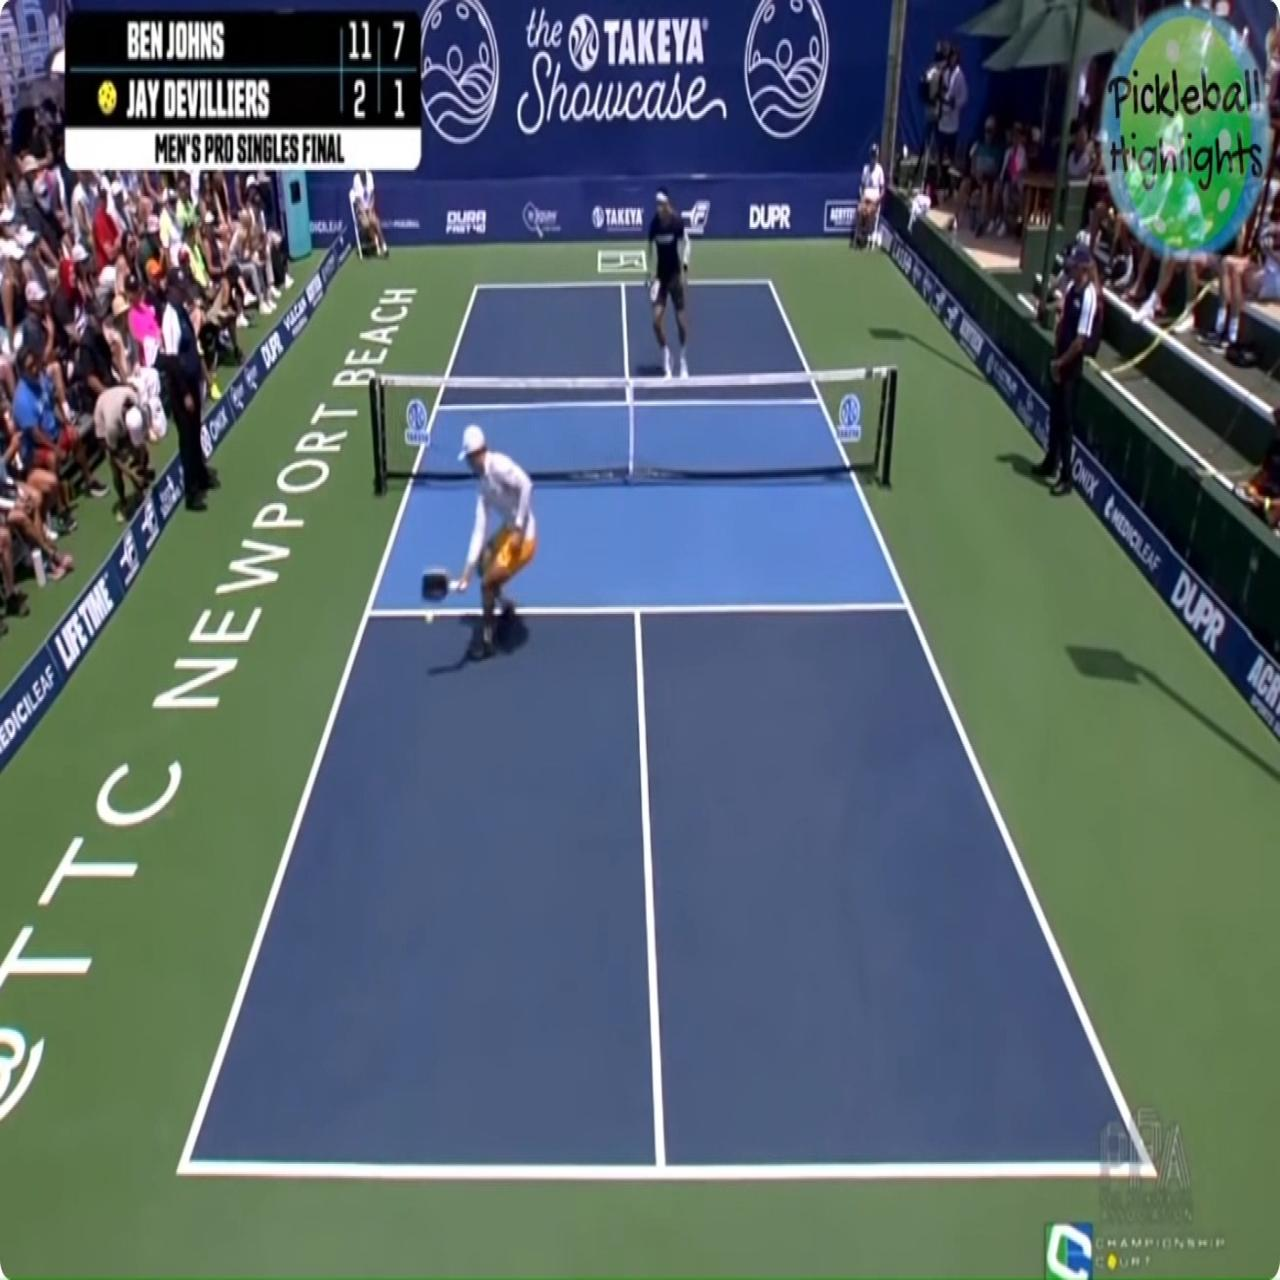pickleball: (423, 611, 436, 626)
